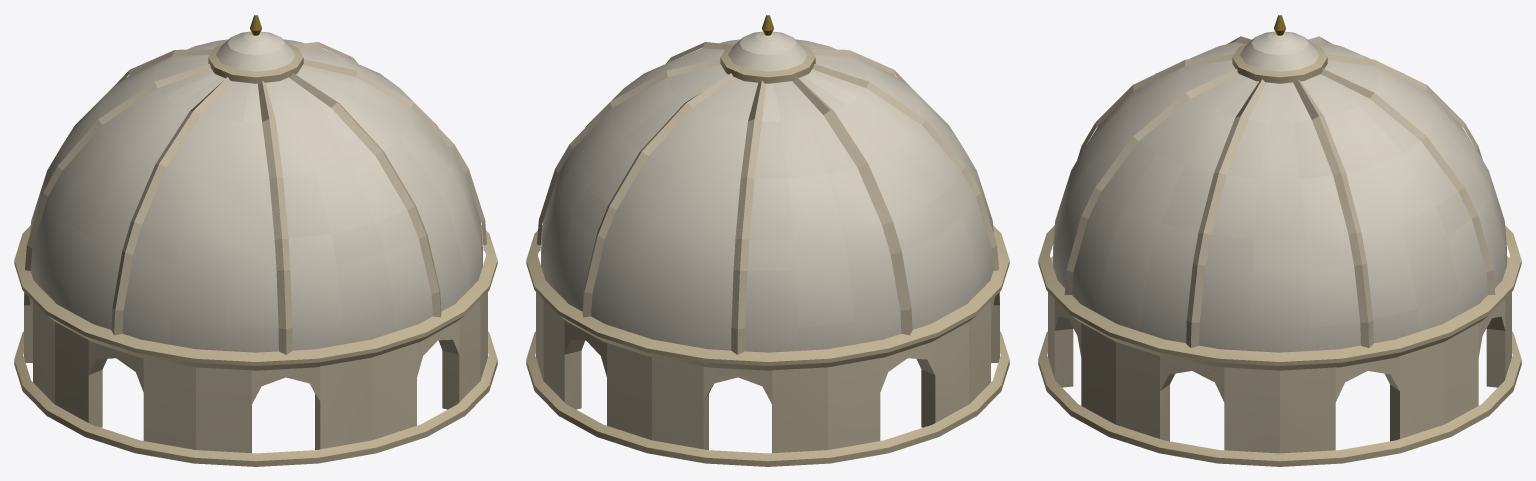
The model's file is dome.hall_8.plaster.glb.
3 views of the same model, side by side, from view 1: azimuth 30°, elevation 25°; view 2: azimuth 150°, elevation 25°; view 3: azimuth 270°, elevation 25° (orthographic).
Visible parts, largest first — view 1: dome_hall_8_plaster; view 2: dome_hall_8_plaster; view 3: dome_hall_8_plaster.
Boxes of the visible parts, box(x1,y1,x2,y2) form: dome_hall_8_plaster: box(14, 15, 497, 466); dome_hall_8_plaster: box(526, 15, 1009, 466); dome_hall_8_plaster: box(1038, 15, 1521, 466).
Size of what is drawn, in the model's own units: 15.2 by 12.15 by 15.2.
